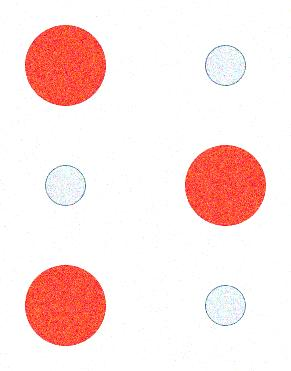O: (18, 18, 272, 350)
